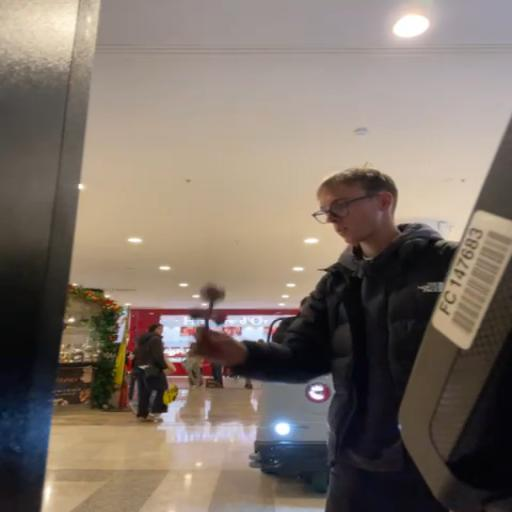kendama_ball: (200, 282, 225, 302)
